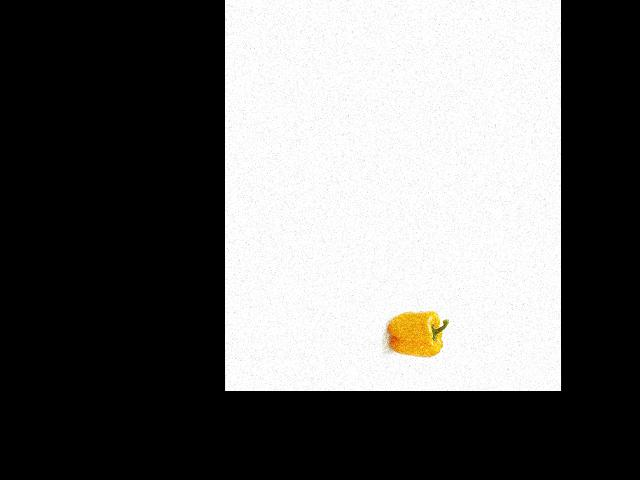bell_pepper: (387, 305, 451, 358)
